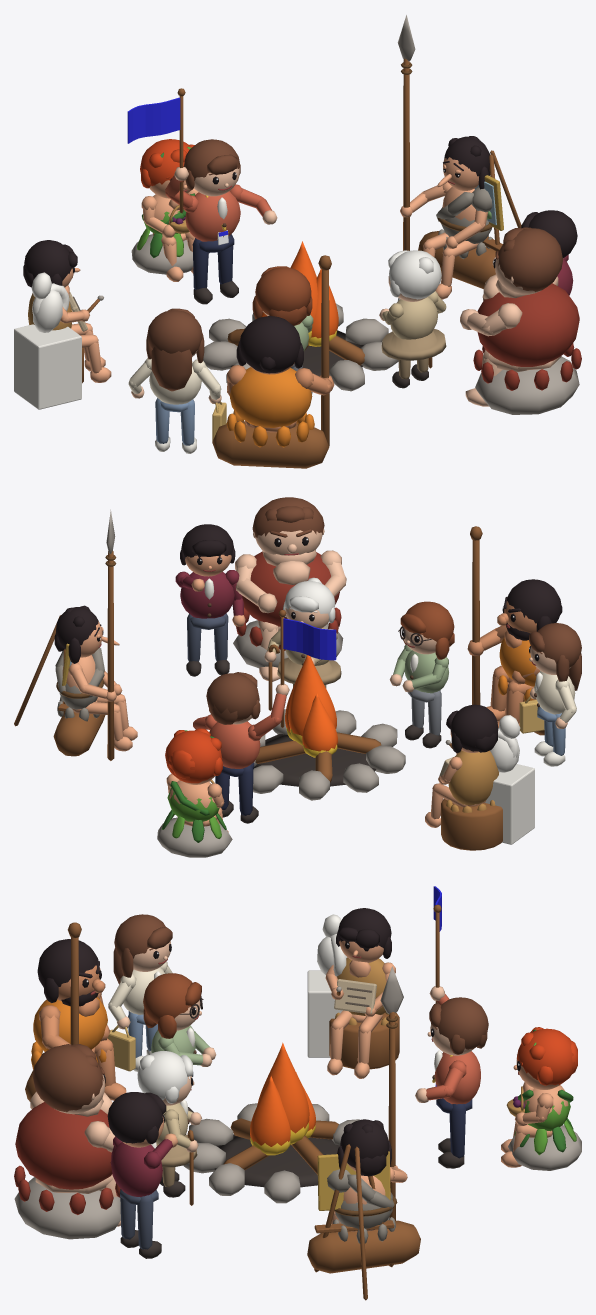
The model's file is cast.glb.
3 renders of one model, top to bottom at view 1: azimuth 30°, elevation 25°; view 2: azimuth 150°, elevation 25°; view 3: azimuth 270°, elevation 25°, orthographic. The views are drawn at different scales.
Visible parts, largest first — view 1: CHAR_caveman_2_body, CHAR_caveman_1_body, PROP_plinth, FIRE_stones, CHAR_guide_body, CHAR_caveman_2_head, CHAR_visitor_1_head, CHAR_visitor_3_body, SEAT_1, CHAR_caveman_3_body, SEAT_2, CHAR_caveman_1_head (+29 smaller); view 2: FIRE_stones, CHAR_caveman_2_head, CHAR_caveman_2_body, CHAR_visitor_4_body, CHAR_caveman_3_body, CHAR_guide_body, CHAR_caveman_5_body, CHAR_caveman_1_head, CHAR_caveman_1_body, PROP_plinth, CHAR_caveman_4_head, CHAR_visitor_1_head (+31 smaller); view 3: CHAR_caveman_2_body, FIRE_stones, CHAR_caveman_2_head, CHAR_visitor_4_body, SEAT_3, SEAT_2, CHAR_caveman_1_body, CHAR_caveman_4_head, CHAR_caveman_5_body, CHAR_guide_body, CHAR_caveman_1_head, CHAR_visitor_1_head (+33 smaller).
Boxes of the visible parts, bbox=[...] form: CHAR_caveman_2_body: bbox=[465, 274, 581, 406]; CHAR_caveman_1_body: bbox=[226, 367, 314, 447]; PROP_plinth: bbox=[14, 324, 81, 409]; FIRE_stones: bbox=[203, 303, 398, 393]; CHAR_guide_body: bbox=[185, 191, 240, 304]; CHAR_caveman_2_head: bbox=[492, 227, 562, 298]; CHAR_visitor_1_head: bbox=[146, 308, 204, 391]; CHAR_visitor_3_body: bbox=[381, 297, 446, 388]; SEAT_1: bbox=[212, 421, 329, 468]; CHAR_caveman_3_body: bbox=[423, 187, 492, 299]; SEAT_2: bbox=[475, 357, 579, 414]; CHAR_caveman_1_head: bbox=[236, 316, 303, 374]; FIRE_stones: bbox=[253, 709, 405, 800]; CHAR_caveman_2_head: bbox=[252, 497, 324, 566]; CHAR_caveman_2_body: bbox=[236, 551, 341, 681]; CHAR_visitor_4_body: bbox=[180, 572, 234, 676]; CHAR_caveman_3_body: bbox=[55, 647, 137, 751]; CHAR_guide_body: bbox=[209, 721, 260, 823]; CHAR_caveman_5_body: bbox=[425, 750, 499, 827]; CHAR_caveman_1_head: bbox=[497, 579, 562, 640]; CHAR_caveman_1_body: bbox=[486, 630, 536, 727]; PROP_plinth: bbox=[485, 764, 534, 844]; CHAR_caveman_4_head: bbox=[165, 728, 222, 784]; CHAR_visitor_1_head: bbox=[529, 623, 581, 690]; CHAR_caveman_2_body: bbox=[14, 1092, 120, 1226]; FIRE_stones: bbox=[183, 1103, 360, 1203]; CHAR_caveman_2_head: bbox=[32, 1044, 105, 1116]; CHAR_visitor_4_body: bbox=[111, 1142, 162, 1258]; SEAT_3: bbox=[307, 1220, 420, 1273]; SEAT_2: bbox=[14, 1177, 120, 1239]; CHAR_caveman_1_body: bbox=[31, 997, 126, 1100]; CHAR_caveman_4_head: bbox=[513, 1027, 577, 1089]; CHAR_caveman_5_body: bbox=[327, 957, 395, 1078]; CHAR_guide_body: bbox=[432, 1050, 480, 1168]; CHAR_caveman_1_head: bbox=[37, 939, 105, 1006]; CHAR_visitor_1_head: bbox=[113, 914, 172, 984].
Size of the model in its own units: 4.31 by 2.13 by 3.89.
